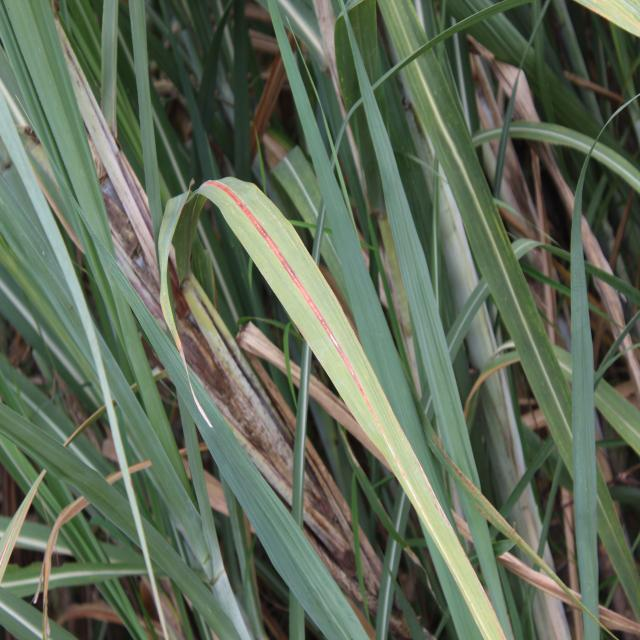Sugarcane: (232, 174, 503, 640), (308, 0, 425, 469), (174, 356, 360, 640), (388, 17, 524, 355), (149, 4, 269, 340), (3, 386, 180, 591), (93, 237, 203, 559), (2, 1, 116, 270), (516, 3, 636, 246), (2, 166, 108, 418), (119, 515, 254, 640), (268, 2, 336, 244), (166, 323, 225, 592), (1, 342, 96, 483), (482, 70, 520, 362), (159, 1, 215, 195), (339, 3, 385, 224), (314, 220, 374, 386), (587, 453, 640, 640), (513, 253, 640, 331), (540, 0, 602, 138), (130, 0, 162, 266), (349, 458, 416, 584), (222, 2, 259, 188), (190, 214, 243, 335), (1, 416, 52, 539), (498, 430, 559, 532), (455, 2, 541, 72), (222, 482, 260, 640), (444, 274, 499, 378), (602, 4, 640, 130), (593, 379, 640, 471), (100, 0, 120, 154)
